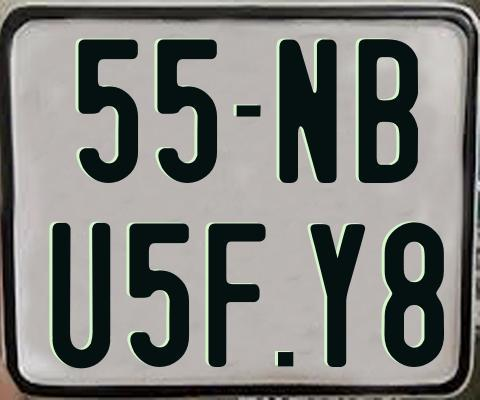5: (127, 221, 193, 367), (77, 39, 137, 187), (154, 37, 215, 182)
8: (381, 220, 444, 370)
B: (357, 39, 421, 184)
F: (206, 220, 268, 370)
N: (276, 38, 335, 185)
U: (52, 222, 116, 368)
Y: (310, 223, 370, 368)
